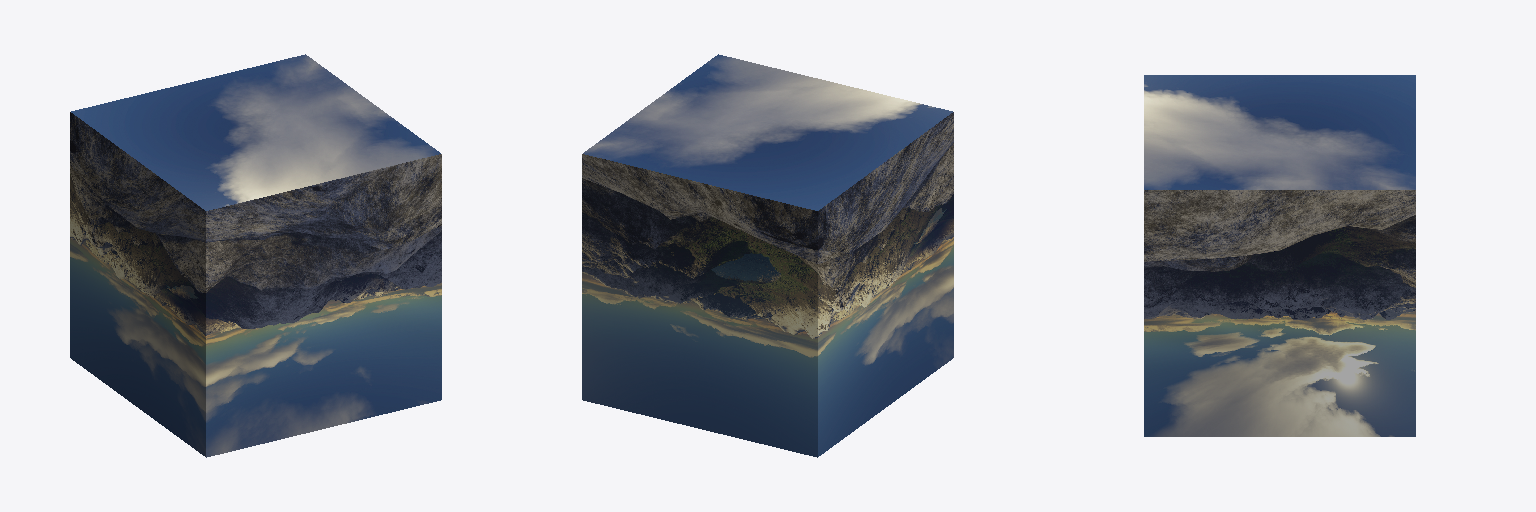
The picture shows the model from 3 angles: view 1: azimuth 30°, elevation 25°; view 2: azimuth 150°, elevation 25°; view 3: azimuth 270°, elevation 25°; orthographic projection.
Parts seen in each view (by area): view 1: Box001; view 2: Box001; view 3: Box001.
Part boxes in pixels (x1,y1,x2,y2): Box001: (70, 54, 441, 457); Box001: (582, 54, 953, 457); Box001: (1144, 75, 1415, 436).
Bounding box in the file's own units: 1705562 × 1705562 × 1705562.
5 materials, 5 textured.